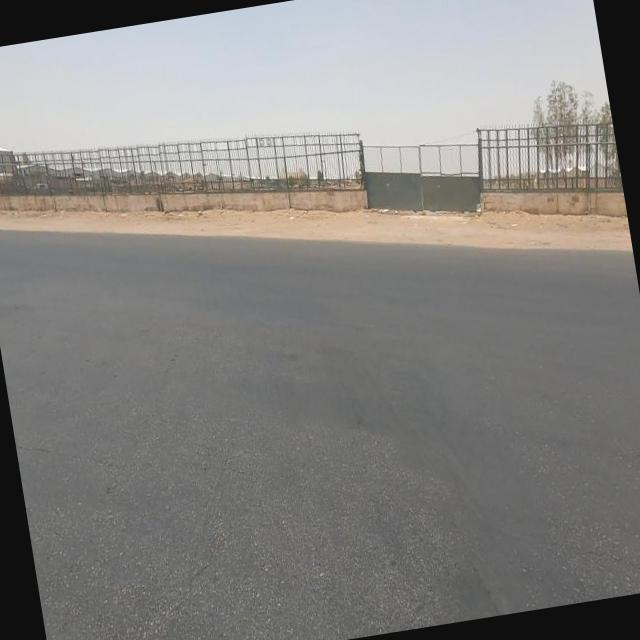debris: (455, 169, 503, 250), (360, 178, 417, 240), (276, 195, 312, 236)
